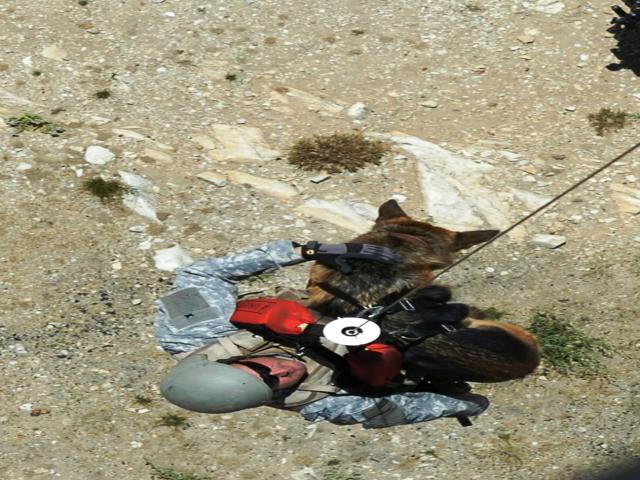Dog: (301, 198, 547, 384)
